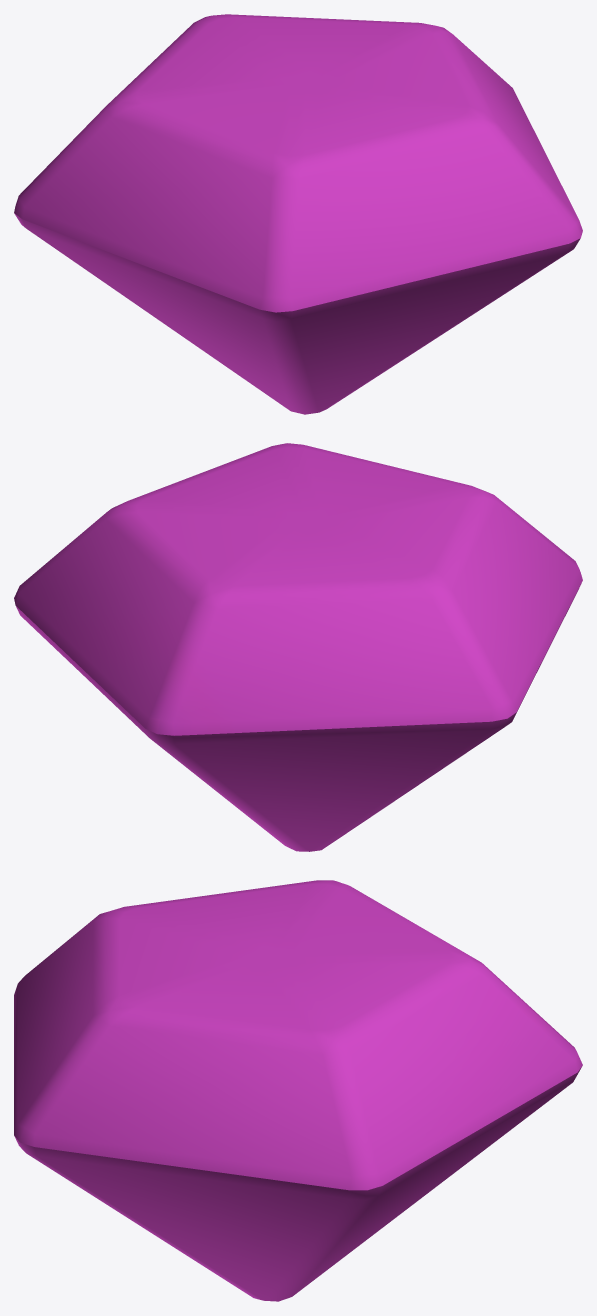
Rendered from Diamond.fbx.
The picture shows the model from 3 angles, top to bottom: view 1: azimuth 30°, elevation 25°; view 2: azimuth 150°, elevation 25°; view 3: azimuth 270°, elevation 25°; orthographic projection. The views are drawn at different scales.
Parts seen in each view (by area): view 1: Diamond; view 2: Diamond; view 3: Diamond.
Boxes of the visible parts, box(x1,y1,x2,y2) form: Diamond: box(14, 14, 582, 414); Diamond: box(14, 443, 582, 851); Diamond: box(14, 880, 582, 1301).
Size of the model in its own units: 131 by 83.75 by 126.
